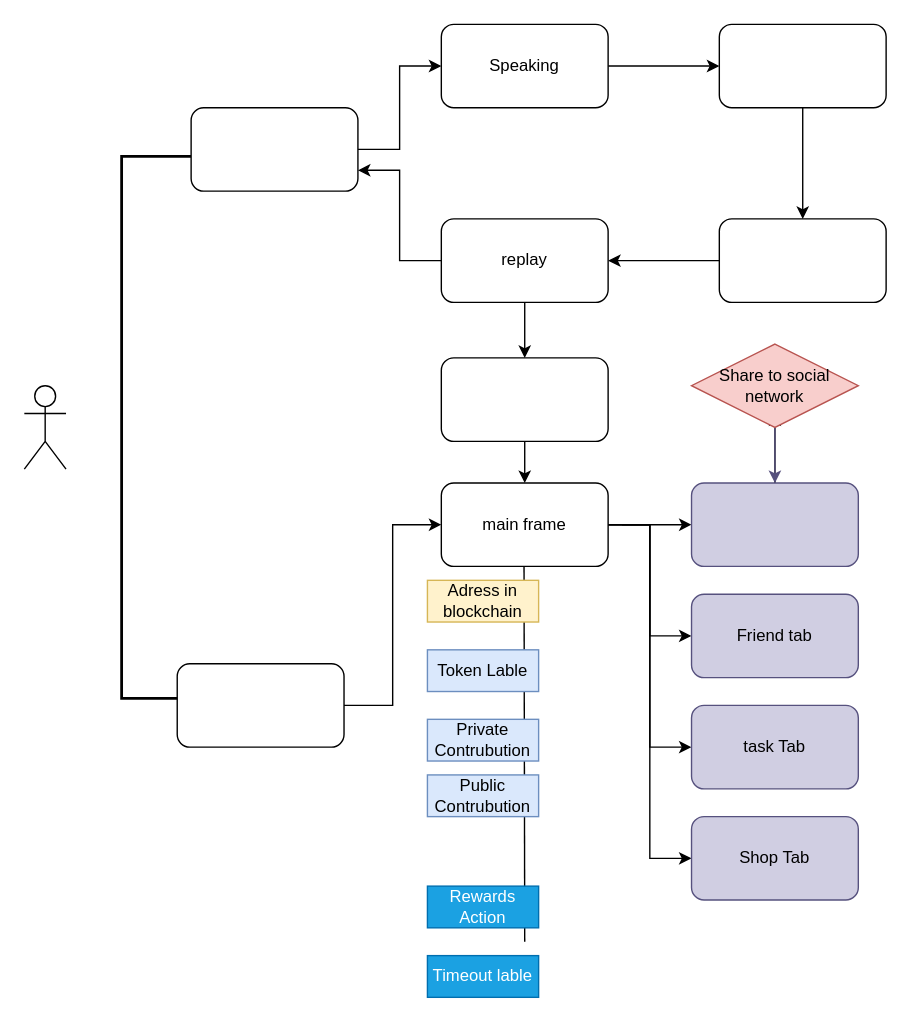
The diagram is 910 pixels wide and 1022 high, and some of its shapes have lost their labels. The shapes that lost their labels are listed below. From the top down, each one's centre as x and y in pixels, then its label:
At point (802, 65): "AIGC".
At point (274, 148): "Bot".
At point (802, 260): "Match doge".
At point (524, 399): "miniapp entrance card".
At point (44, 426): "Actor".
At point (774, 524): "My voice tab".
At point (260, 704): "miniapp".
